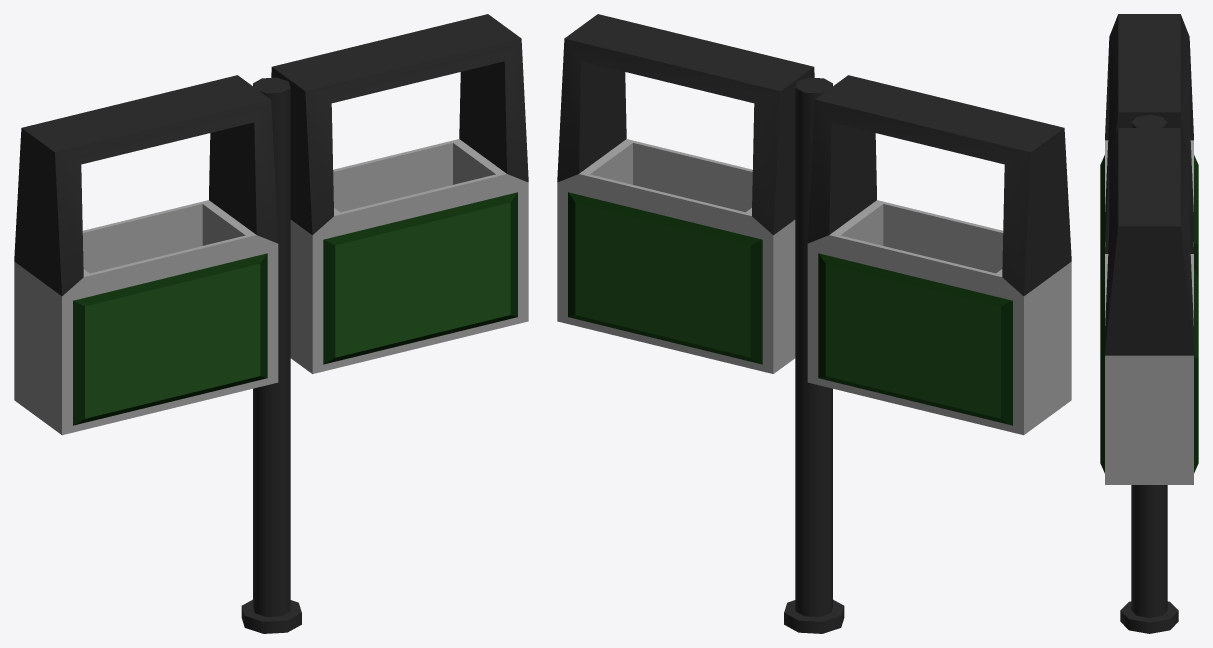
Rendered from CityObjects.fbx_TrashCan.fbx.
3 views of the same model, side by side, from view 1: azimuth 30°, elevation 25°; view 2: azimuth 150°, elevation 25°; view 3: azimuth 270°, elevation 25° (orthographic). The views are drawn at different scales.
Visible parts, largest first — view 1: TrashCan; view 2: TrashCan; view 3: TrashCan.
Boxes of the visible parts, x1,y1,x2,y2 form: TrashCan: [14, 14, 528, 633]; TrashCan: [557, 14, 1071, 633]; TrashCan: [1100, 14, 1198, 633].
Size of the model in its own units: 137 by 151 by 26.82.
